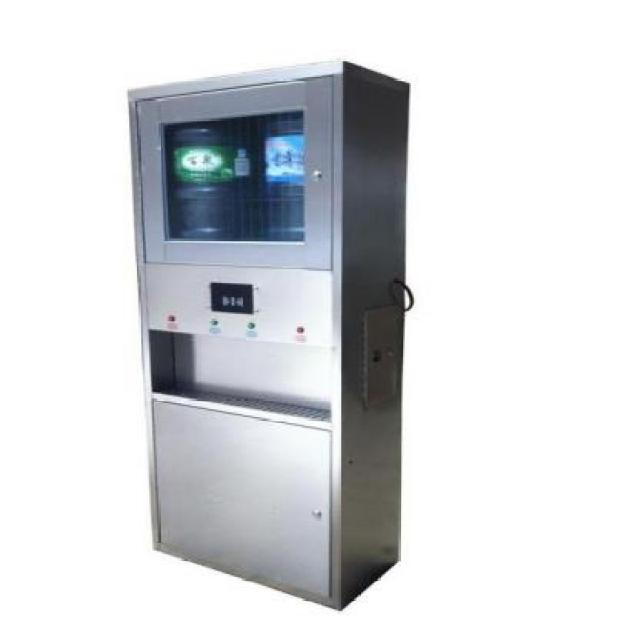cooler: (125, 57, 416, 618)
